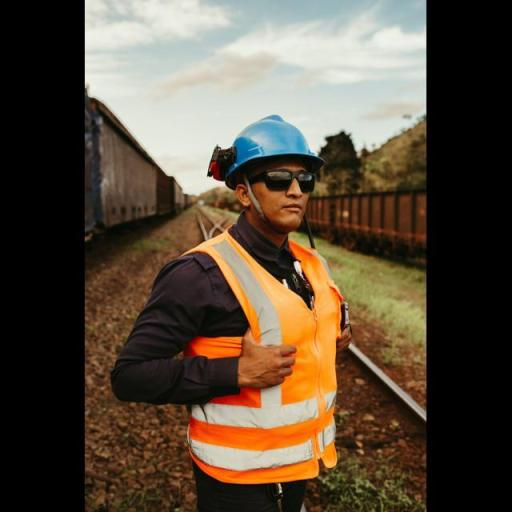Person: (110, 103, 374, 506)
goggles: (240, 162, 321, 202)
helmet: (212, 108, 328, 200)
vest: (166, 220, 366, 488)
